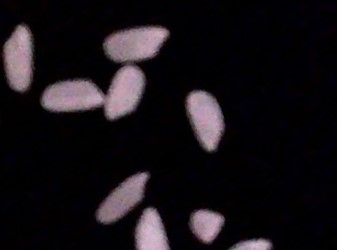broken_grain: (133, 206, 174, 250), (187, 207, 226, 246)
complete_grain: (87, 169, 150, 227), (184, 86, 227, 153), (102, 24, 171, 64), (104, 61, 148, 121), (40, 78, 105, 118), (3, 22, 35, 96)
